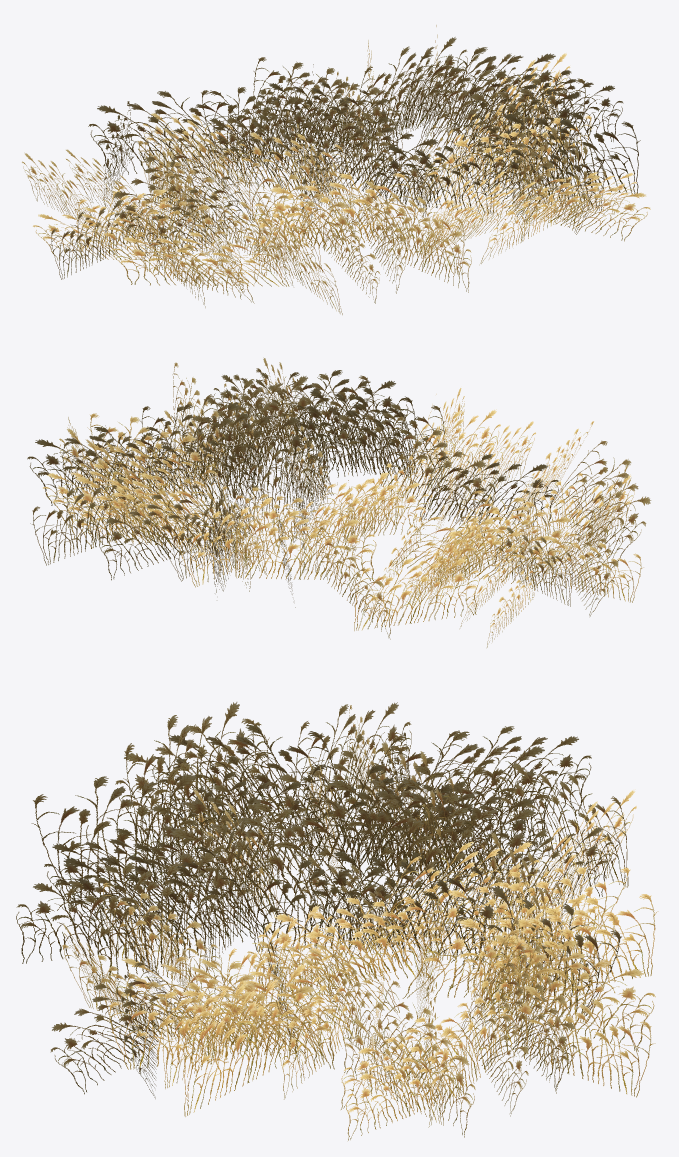
The model's file is far.glb.
3 views of the same model, one above another, from view 1: azimuth 30°, elevation 25°; view 2: azimuth 150°, elevation 25°; view 3: azimuth 270°, elevation 25° (orthographic). The views are drawn at different scales.
Parts seen in each view (by area): view 1: lod1, lod2; view 2: lod1, lod2; view 3: lod1, lod2.
Boxes of the visible parts, bbox=[...] form: lod1: bbox=[22, 40, 636, 307]; lod2: bbox=[49, 25, 650, 314]; lod1: bbox=[43, 368, 634, 647]; lod2: bbox=[27, 357, 651, 639]; lod1: bbox=[16, 702, 658, 1140]; lod2: bbox=[31, 702, 655, 1137].
Bounding box in the file's own units: 15.41 × 2.21 × 10.91.
Materials: 1 (1 with a texture image).
